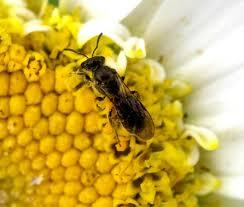Lasioglossum: (67, 32, 158, 141)
